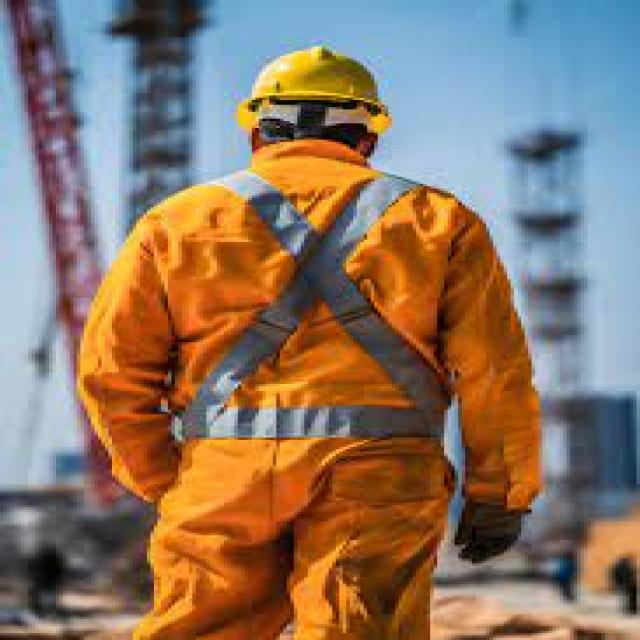vest: (76, 137, 542, 640)
